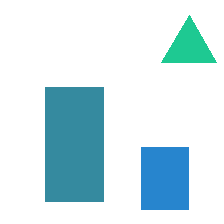rectangle: (45, 87, 103, 201), (141, 147, 188, 209)
triangle: (161, 15, 216, 62)
